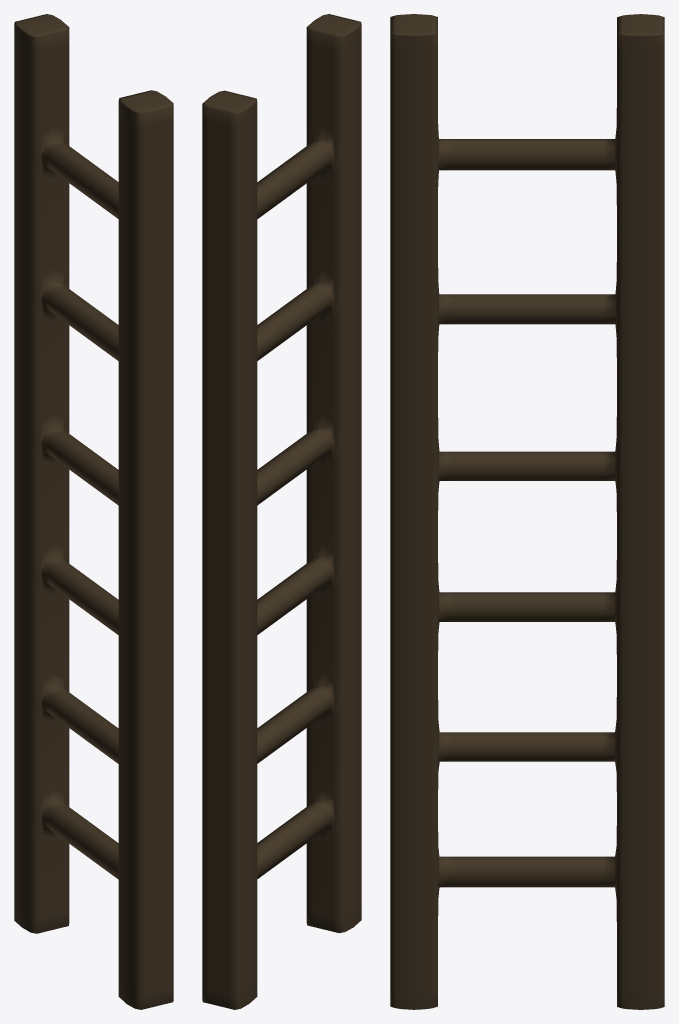
Rendered from escalera.fbx.
3 renders of one model, left to right at view 1: azimuth 30°, elevation 25°; view 2: azimuth 150°, elevation 25°; view 3: azimuth 270°, elevation 25°, orthographic. The views are drawn at different scales.
Visible parts, largest first — view 1: pCube3; view 2: pCube3; view 3: pCube3.
Part boxes in pixels (x1,y1,x2,y2): pCube3: (14, 14, 173, 1009); pCube3: (202, 14, 361, 1009); pCube3: (390, 14, 664, 1009).
Size of the model in its own units: 0.6193 by 13.02 by 3.32.
